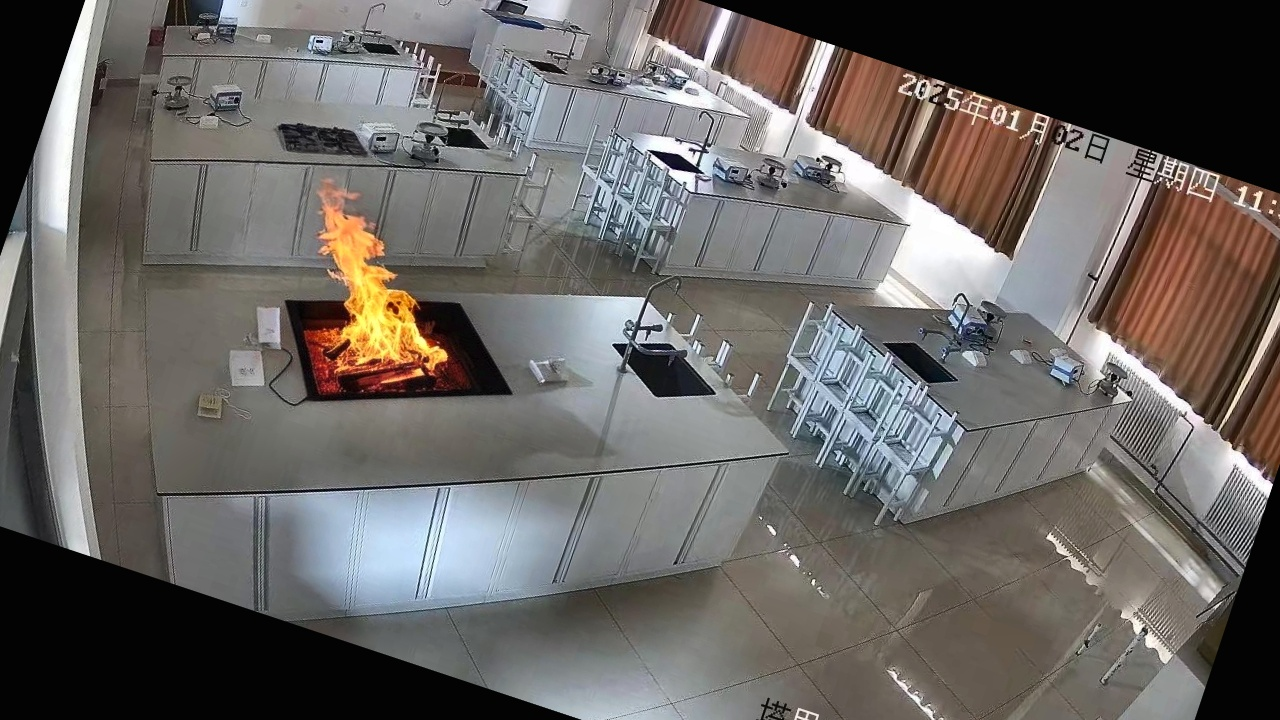fire: (240, 155, 513, 438)
